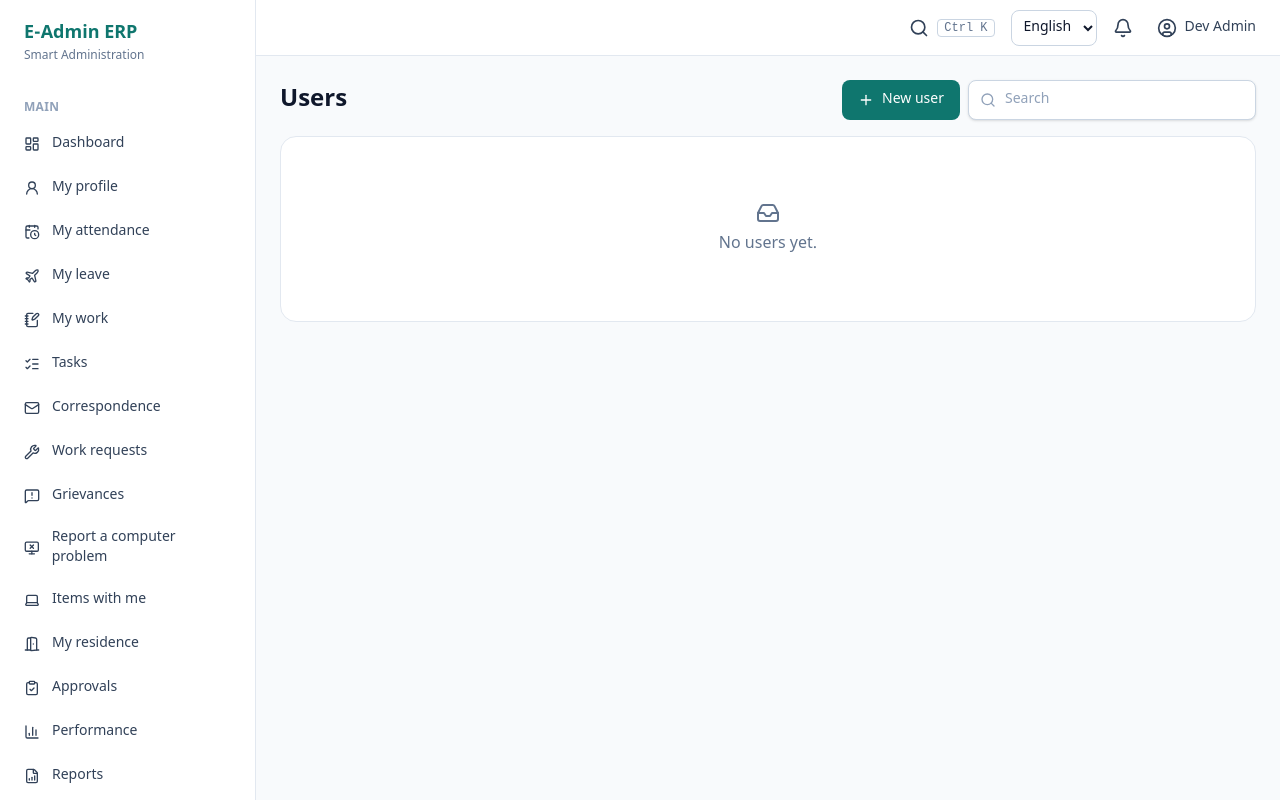
Test: users › requires a role before creating the account
The width and height of the screenshot is (1280, 800).
Click the button "New user".
click(901, 100)  # box 842,80 -> 960,120
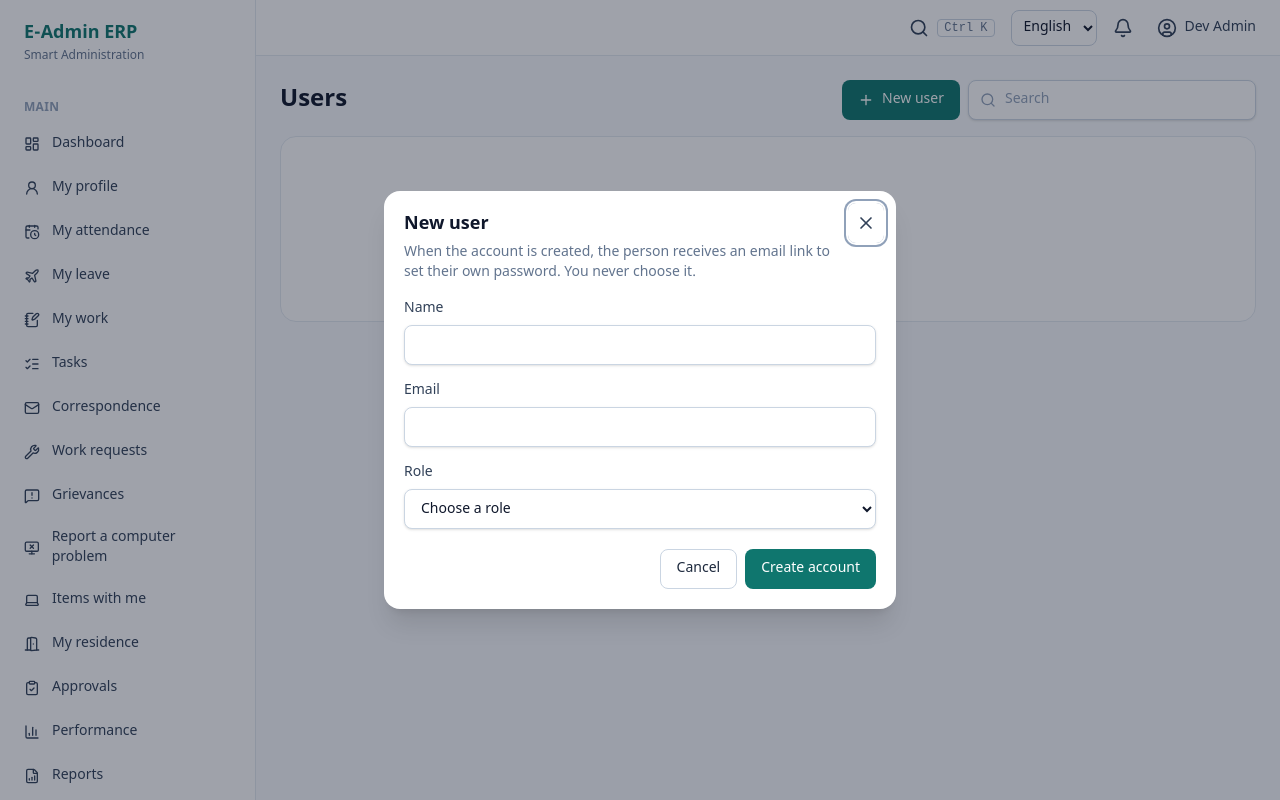
Type "Asha" into the field labelled "Name".
click(640, 345); type("Asha")  # box 404,325 -> 876,365
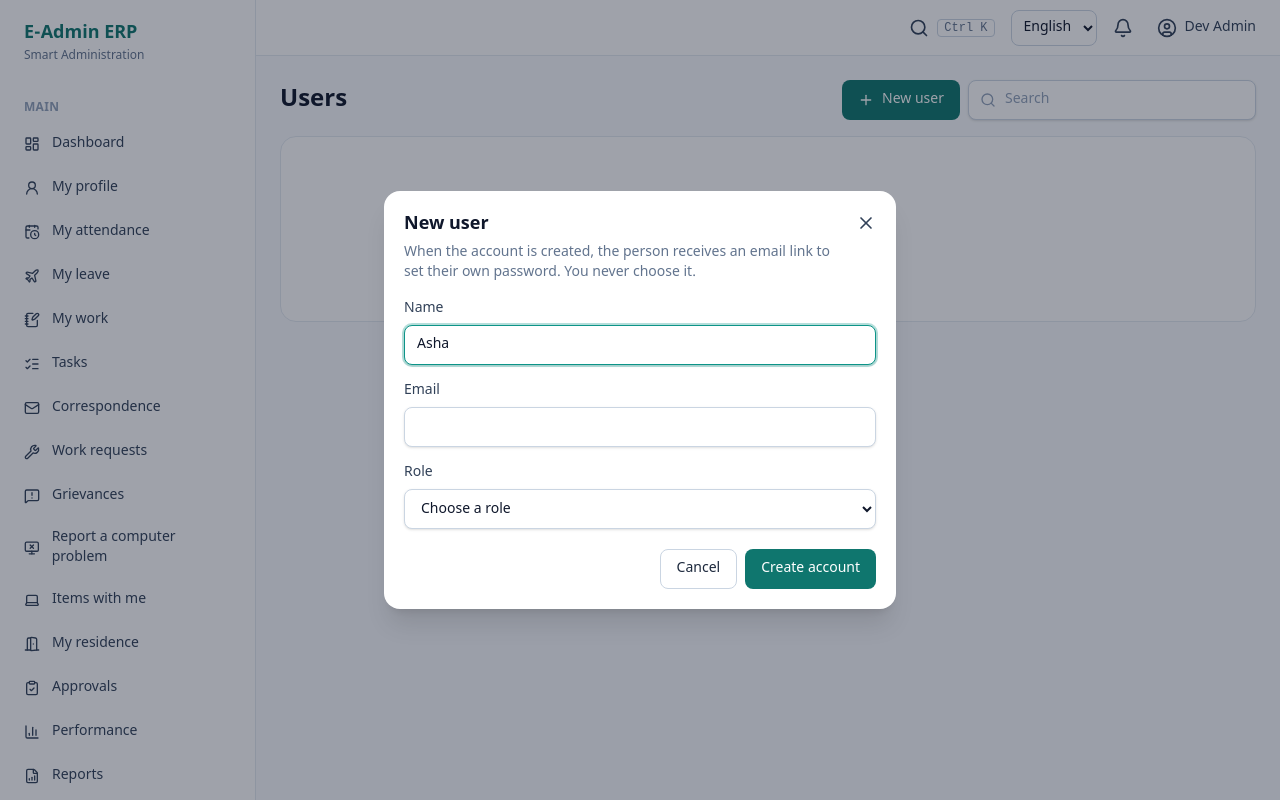
Type "asha@example.com" into the field labelled "Email".
click(640, 427); type("asha@example.com")  # box 404,407 -> 876,447
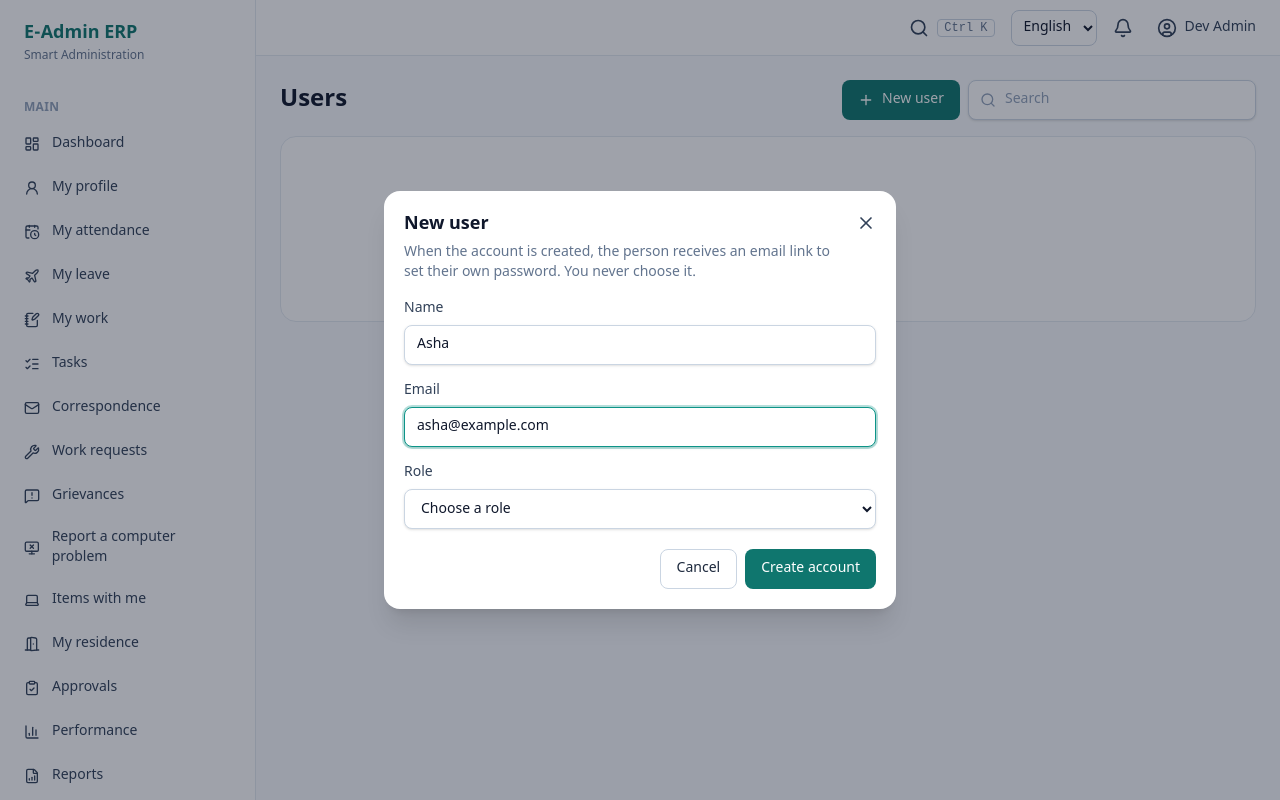
Click the button "Create account".
click(811, 569)  # box 745,549 -> 876,589
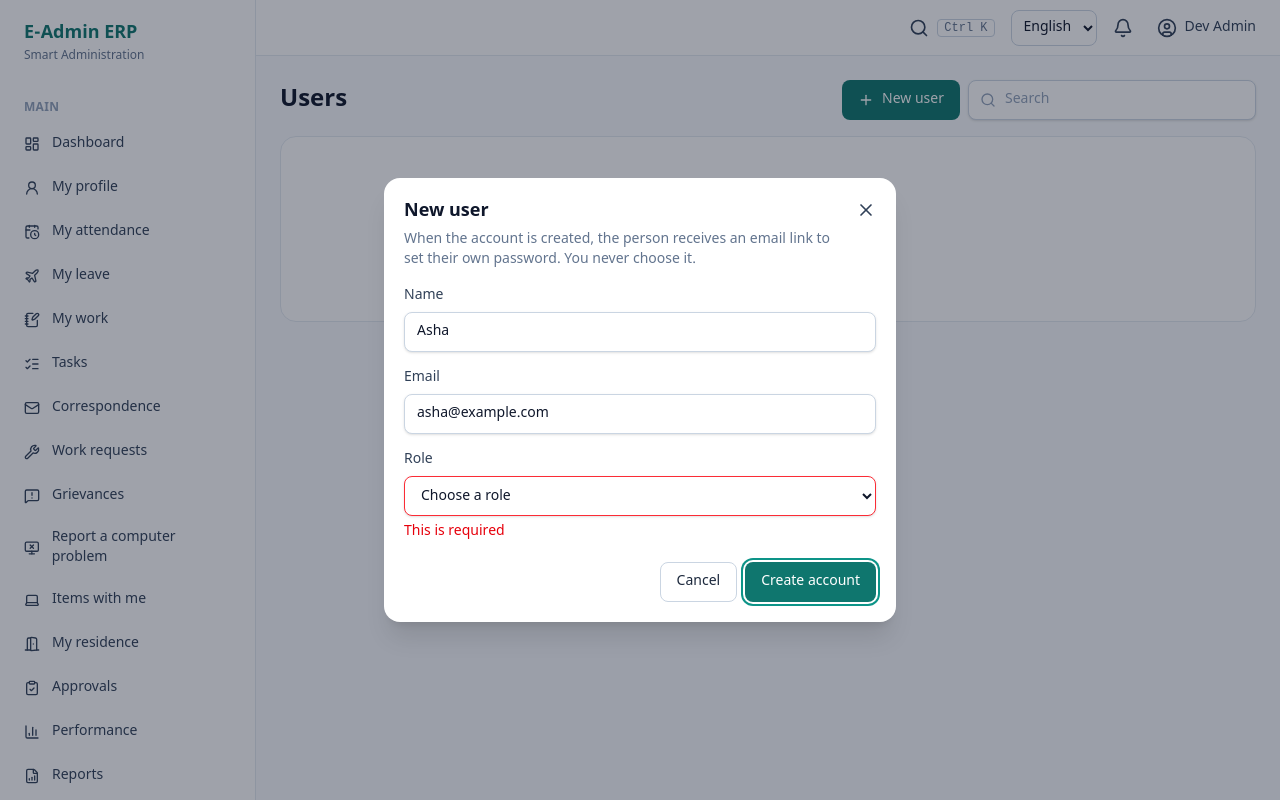
Check: the text "This is required" is shown, box 404,522 -> 505,541
